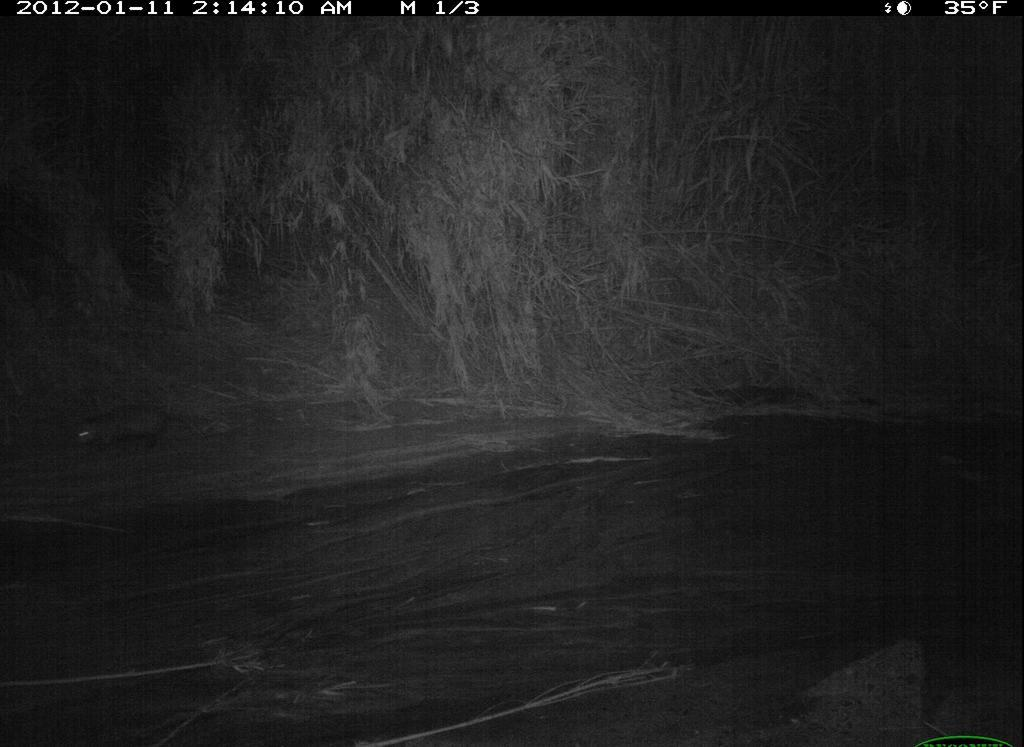opossum: (54, 388, 199, 472)
